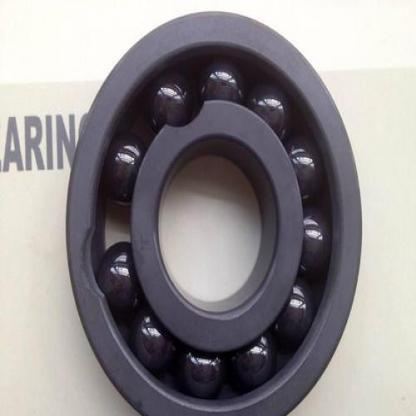FOD: (56, 7, 368, 415)
